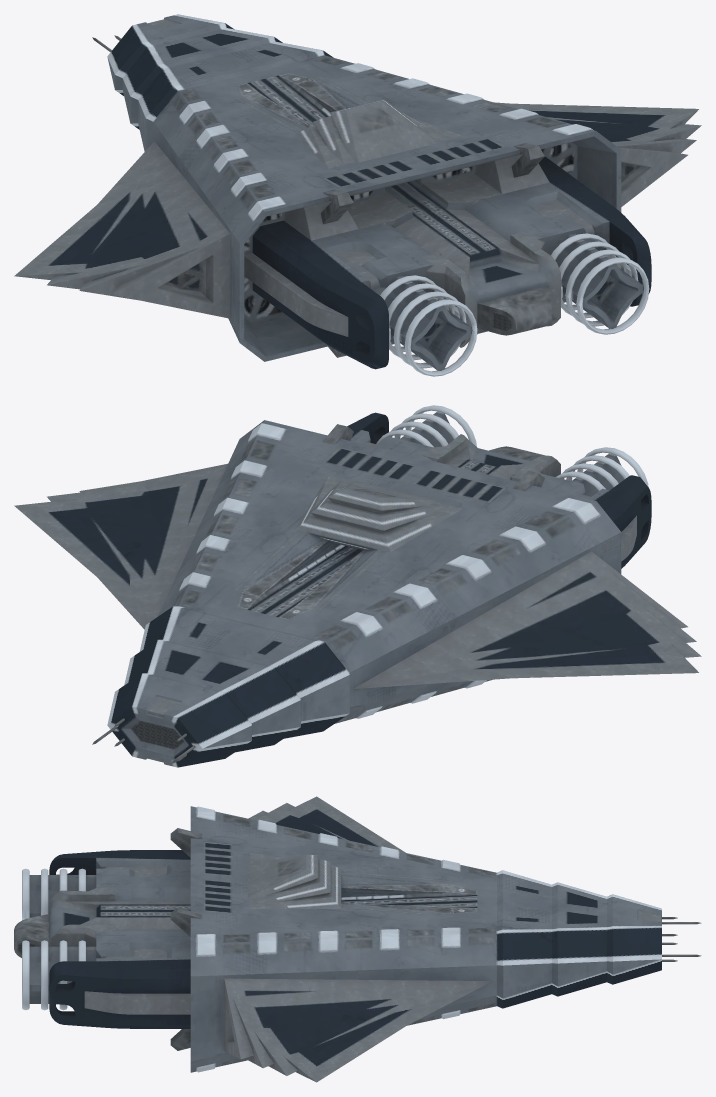
Rendered from flight-ship-v8.glb.
The picture shows the model from 3 angles, top to bottom: view 1: azimuth 30°, elevation 25°; view 2: azimuth 150°, elevation 25°; view 3: azimuth 270°, elevation 25°; orthographic projection. The views are drawn at different scales.
Visible parts, largest first — view 1: Hippocrates_Fighter; view 2: Hippocrates_Fighter; view 3: Hippocrates_Fighter.
Part boxes in pixels (x1,y1,x2,y2): Hippocrates_Fighter: (14, 14, 701, 376); Hippocrates_Fighter: (14, 405, 701, 767); Hippocrates_Fighter: (14, 796, 701, 1082).
Size of the model in its own units: 14.37 by 3.65 by 14.6.
1 material, 1 textured.
